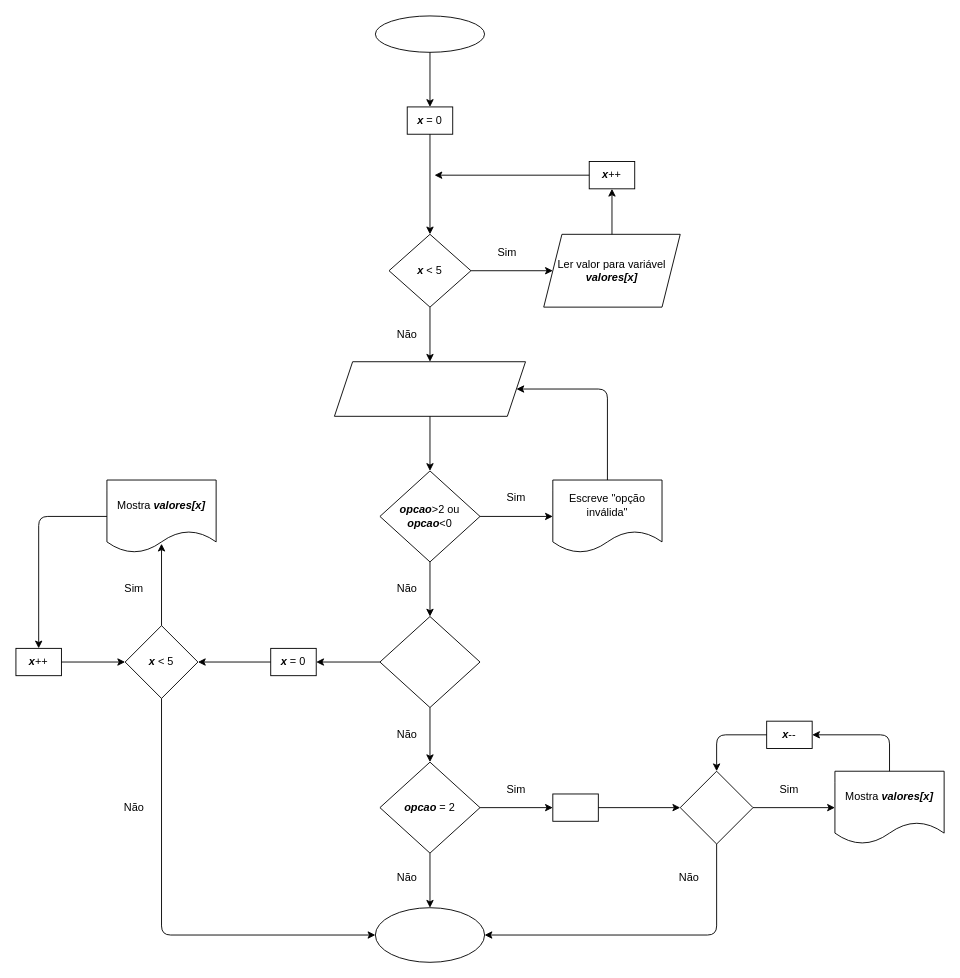
Some shapes in this 960 by 978 pixel diagram are drawn without their labels. The shapes that lost their labels are listed below. From the top down, each one's centre as x and y in pixels, then its label:
At pixel 429 33: "INÍCIO".
At pixel 430 388: "Ler escolha do utilizador para a variável opcao".
At pixel 429 662: "opcao = 1".
At pixel 575 807: "x = 4".
At pixel 716 807: "x >= 0".
At pixel 429 934: "FIM".
